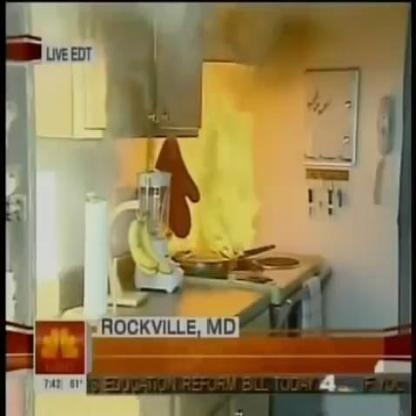fire: (166, 99, 267, 264)
